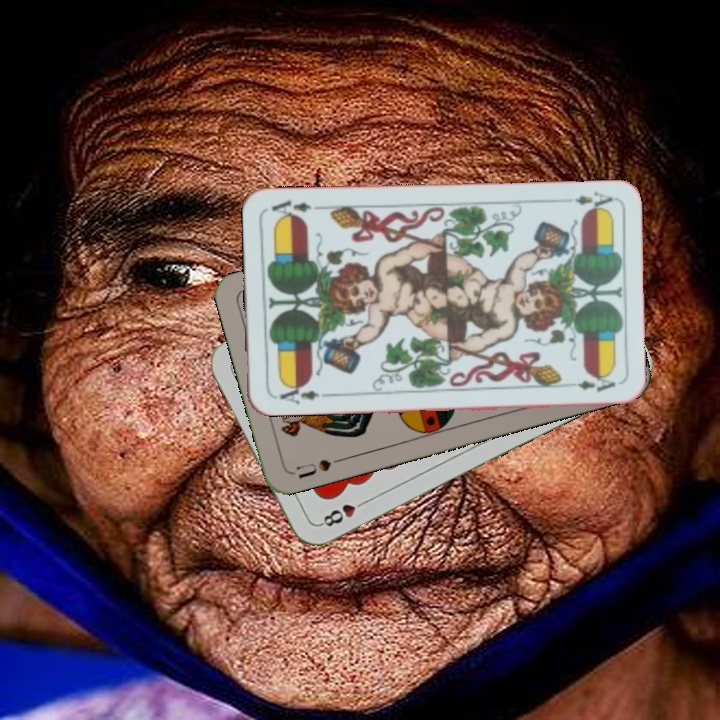EA: (271, 379, 330, 407), (571, 188, 616, 214)
H8: (315, 495, 371, 530)
SU: (292, 453, 347, 481)
